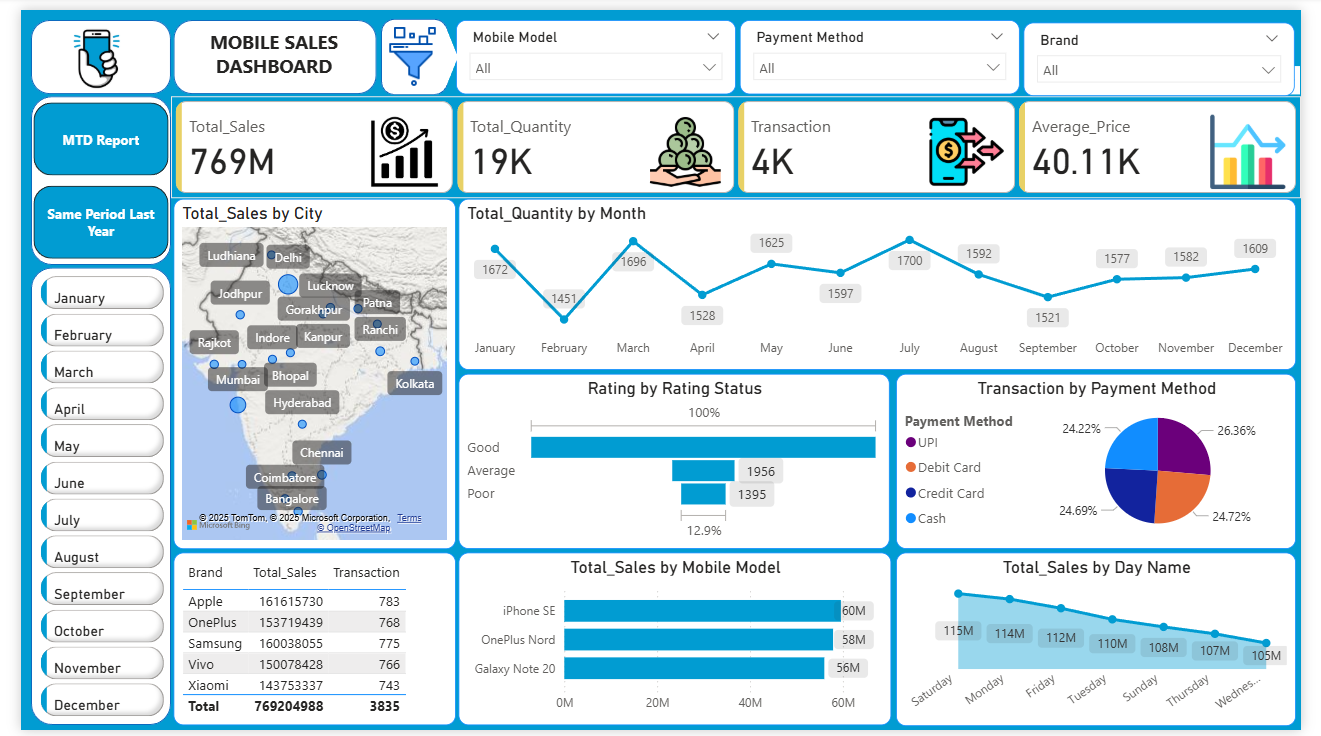

This screenshot's page, from the dashboard's own definition file:
{"tool":"powerbi","page":{"name":"Dashboard","canvas":[1280,720],"ordinal":0},"visuals":[{"type":"shape","box":[9.6,9.6,140,74.1],"z":0},{"type":"shape","box":[9.6,86.4,140,168.8],"z":1000},{"type":"shape","box":[10,257.5,140,457.5],"z":2000},{"type":"image","box":[32.9,1.4,86.4,94.7],"z":3000},{"type":"shape","box":[152.3,9.6,203.1,74.1],"z":4000},{"type":"textbox","box":[150,13.6,205.9,64.1],"z":5000},{"type":"advancedSlicerVisual","fields":{"Values":["Calender_Date.Date.Variation.Date Hierarchy.Month"]},"box":[15,261.2,133.8,458.8],"z":6000},{"type":"cardVisual","fields":{"Data":["Sales_Data.Total_Sales","Sales_Data.Total_Quantity","Sales_Data.Transaction","Sales_Data.Average_Price"]},"box":[149.6,86.4,1130.7,102.9],"z":7000},{"type":"slicer","fields":{"Values":["Sales_Data.Mobile Model"]},"box":[435,9.6,279.9,74.1],"z":8000},{"type":"slicer","fields":{"Values":["Sales_Data.Payment Method"]},"box":[719,9.6,279.9,74.1],"z":9000},{"type":"slicer","fields":{"Values":["Sales_Data.Brand"]},"box":[1002.1,12.3,271.3,73.6],"z":10000},{"type":"shape","box":[360,8.2,66.8,76.4],"z":11000},{"type":"image","box":[334,10.9,118.6,70.9],"z":12000},{"type":"shape","box":[411.8,15,25.9,64.1],"z":13000},{"type":"map","fields":{"Category":["Sales_Data.City"],"Size":["Sales_Data.Total_Sales"]},"box":[152.5,188.8,282.5,350],"z":14000},{"type":"lineChart","fields":{"Y":["Sales_Data.Total_Quantity"],"Category":["Calender_Date.Date.Variation.Date Hierarchy.Month"]},"box":[437.5,188.8,837.5,171.2],"z":15000},{"type":"funnel","title":"Rating by Rating Status","fields":{"Category":["Sales_Data.Rating Status"],"Y":["Sum(Sales_Data.Customer Ratings)"]},"box":[437.5,363.8,431.2,175],"z":16000},{"type":"pieChart","fields":{"Category":["Sales_Data.Payment Method"],"Y":["Sales_Data.Transaction"]},"box":[875,363.8,400,175],"z":17000},{"type":"clusteredBarChart","fields":{"Y":["Sales_Data.Total_Sales"],"Category":["Sales_Data.Mobile Model"]},"box":[437.5,542.5,432.5,172.5],"z":18000},{"type":"stackedAreaChart","fields":{"Y":["Sales_Data.Total_Sales"],"Category":["Calender_Date.Day Name"]},"box":[875,542.5,400,173.8],"z":19000},{"type":"tableEx","fields":{"Values":["Sales_Data.Brand","Sales_Data.Total_Sales","Sales_Data.Transaction"]},"box":[152.5,542.5,282.5,172.5],"z":20000},{"type":"pageNavigator","box":[12.5,92.5,135,156.2],"z":20001}]}

Visuals, with their boxes in screenshot pixels (x1, y1, x2, y2), scaled from the page's 1280x720 canvas onto the 1321x736 screenshot:
shape: [x1=10, y1=10, x2=154, y2=86]
shape: [x1=10, y1=88, x2=154, y2=261]
shape: [x1=10, y1=263, x2=155, y2=731]
image: [x1=34, y1=1, x2=123, y2=98]
shape: [x1=157, y1=10, x2=367, y2=86]
textbox: [x1=155, y1=14, x2=367, y2=79]
advancedSlicerVisual - Calender_Date.Date.Variation.Date Hierarchy.Month: [x1=15, y1=267, x2=154, y2=735]
cardVisual - Sales_Data.Total_Sales x Sales_Data.Total_Quantity: [x1=154, y1=88, x2=1320, y2=194]
slicer - Sales_Data.Mobile Model: [x1=449, y1=10, x2=738, y2=86]
slicer - Sales_Data.Payment Method: [x1=742, y1=10, x2=1031, y2=86]
slicer - Sales_Data.Brand: [x1=1034, y1=13, x2=1314, y2=88]
shape: [x1=372, y1=8, x2=440, y2=86]
image: [x1=345, y1=11, x2=467, y2=84]
shape: [x1=425, y1=15, x2=452, y2=81]
map - Sales_Data.City x Sales_Data.Total_Sales: [x1=157, y1=193, x2=449, y2=551]
lineChart - Sales_Data.Total_Quantity x Calender_Date.Date.Variation.Date Hierarchy.Month: [x1=452, y1=193, x2=1316, y2=368]
"Rating by Rating Status" funnel: [x1=452, y1=372, x2=897, y2=551]
pieChart - Sales_Data.Payment Method x Sales_Data.Transaction: [x1=903, y1=372, x2=1316, y2=551]
clusteredBarChart - Sales_Data.Total_Sales x Sales_Data.Mobile Model: [x1=452, y1=555, x2=898, y2=731]
stackedAreaChart - Sales_Data.Total_Sales x Calender_Date.Day Name: [x1=903, y1=555, x2=1316, y2=732]
tableEx - Sales_Data.Brand x Sales_Data.Total_Sales: [x1=157, y1=555, x2=449, y2=731]
pageNavigator: [x1=13, y1=95, x2=152, y2=254]
